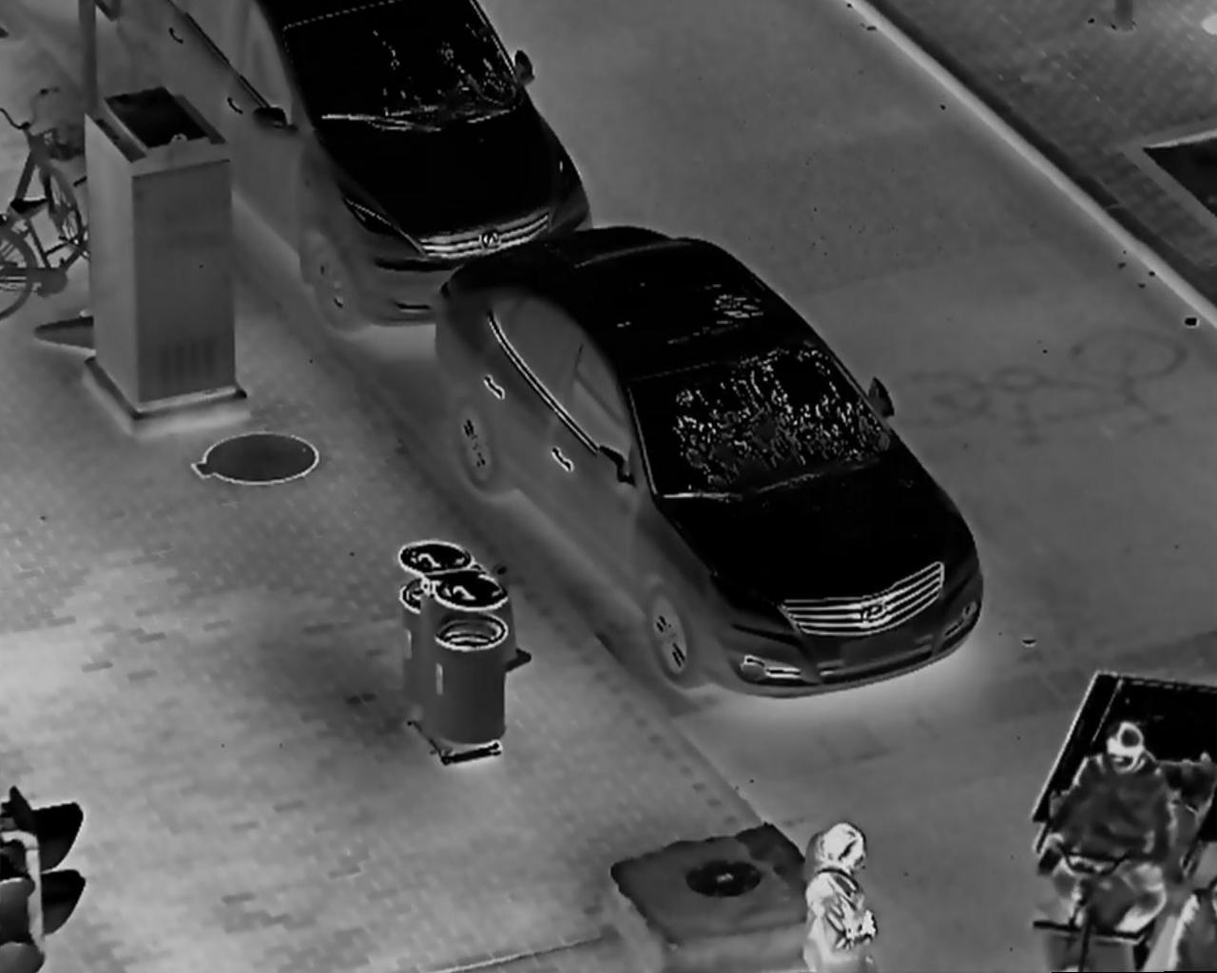person: (1042, 721, 1181, 973), (796, 816, 889, 973)
